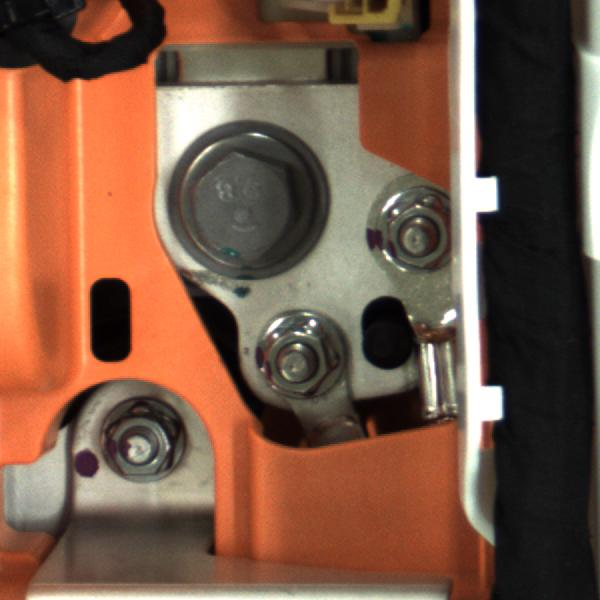nut_b: (154, 115, 341, 278)
screw_s: (248, 306, 357, 406), (97, 395, 189, 482), (377, 191, 465, 275)
